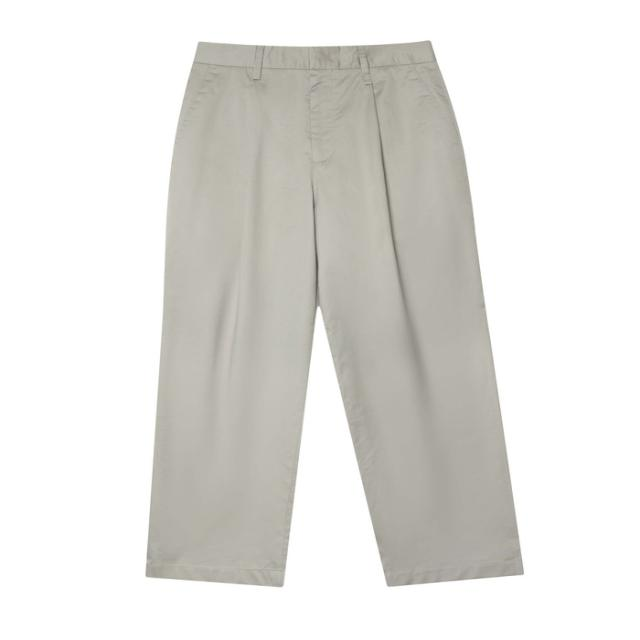long-pants: (145, 37, 524, 590)
